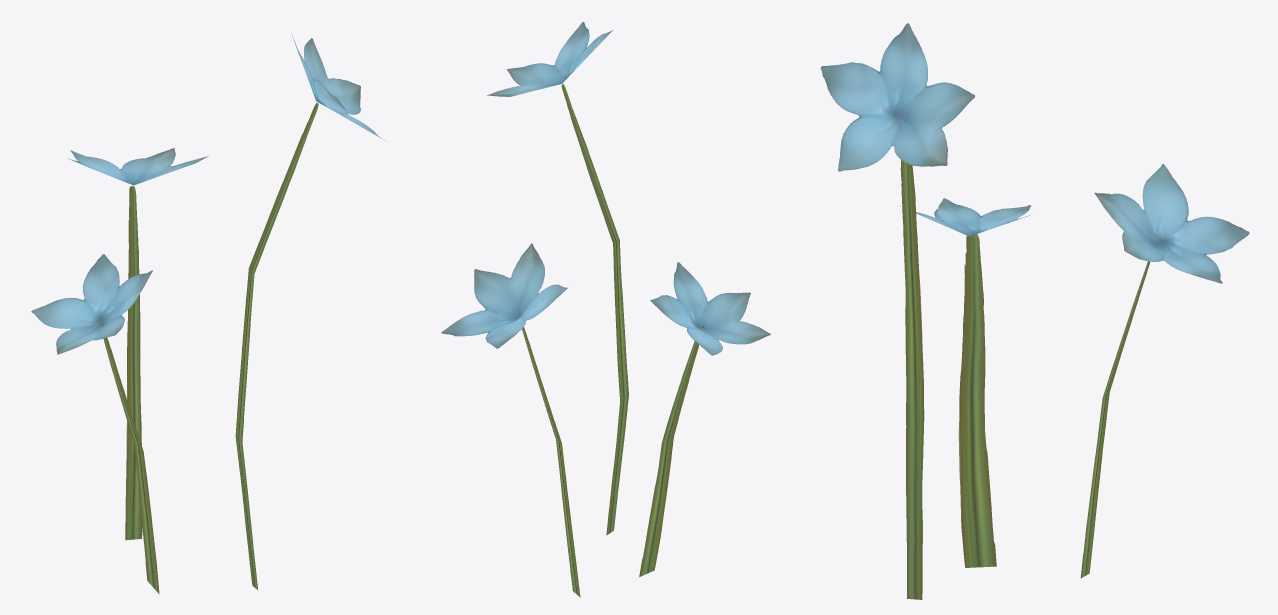
Rendered from SM_Ground_Blue_Flower_B.fbx.
3 renders of one model, left to right at view 1: azimuth 30°, elevation 25°; view 2: azimuth 150°, elevation 25°; view 3: azimuth 270°, elevation 25°, orthographic. The views are drawn at different scales.
Visible parts, largest first — view 1: SM_Ground_Blue_Flower_B; view 2: SM_Ground_Blue_Flower_B; view 3: SM_Ground_Blue_Flower_B.
Boxes of the visible parts, x1=… form: SM_Ground_Blue_Flower_B: x1=31, y1=33, x2=388, y2=594; SM_Ground_Blue_Flower_B: x1=441, y1=21, x2=770, y2=597; SM_Ground_Blue_Flower_B: x1=820, y1=23, x2=1249, y2=599.
Bounding box in the file's own units: 21.42 × 23.7 × 34.46.
1 material, 1 textured.
